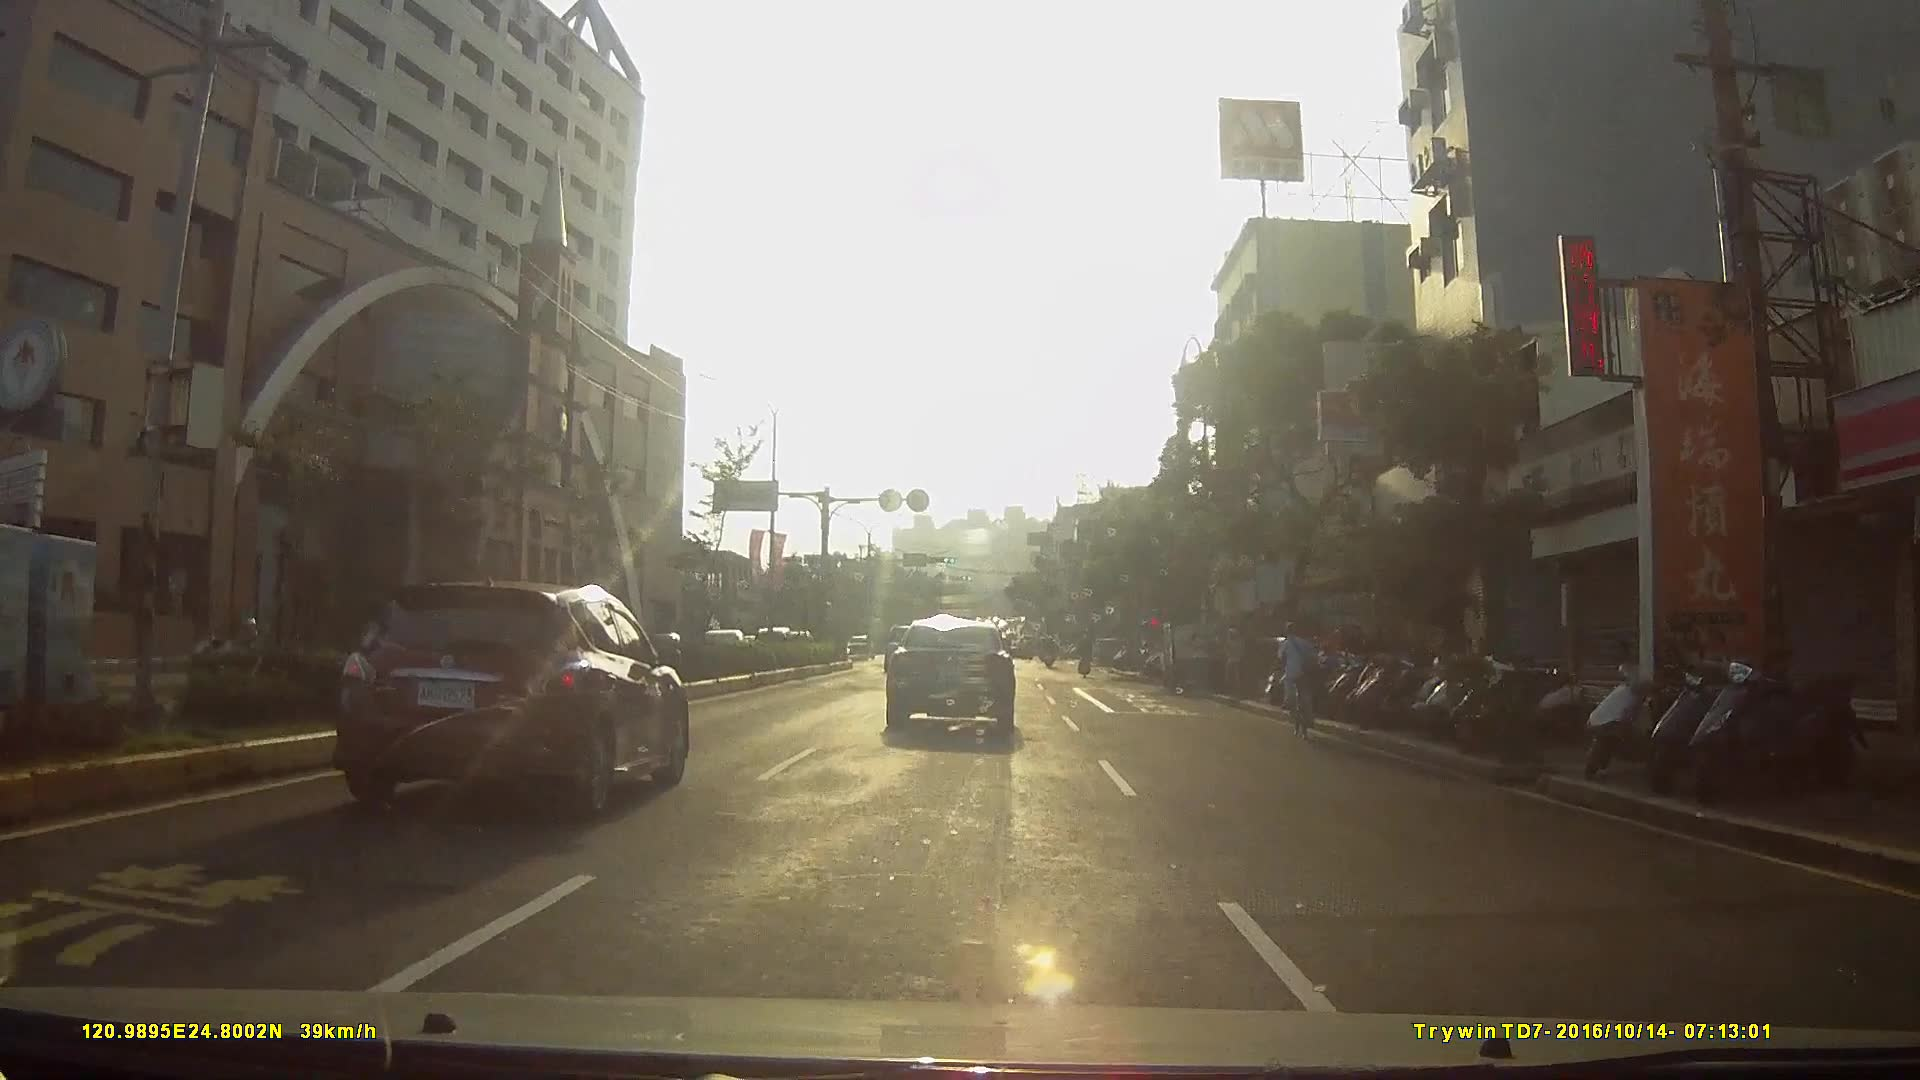rider: (1274, 620, 1323, 740)
vehicle: (329, 572, 702, 819), (880, 612, 1030, 742), (1156, 611, 1232, 687), (763, 607, 822, 662)
